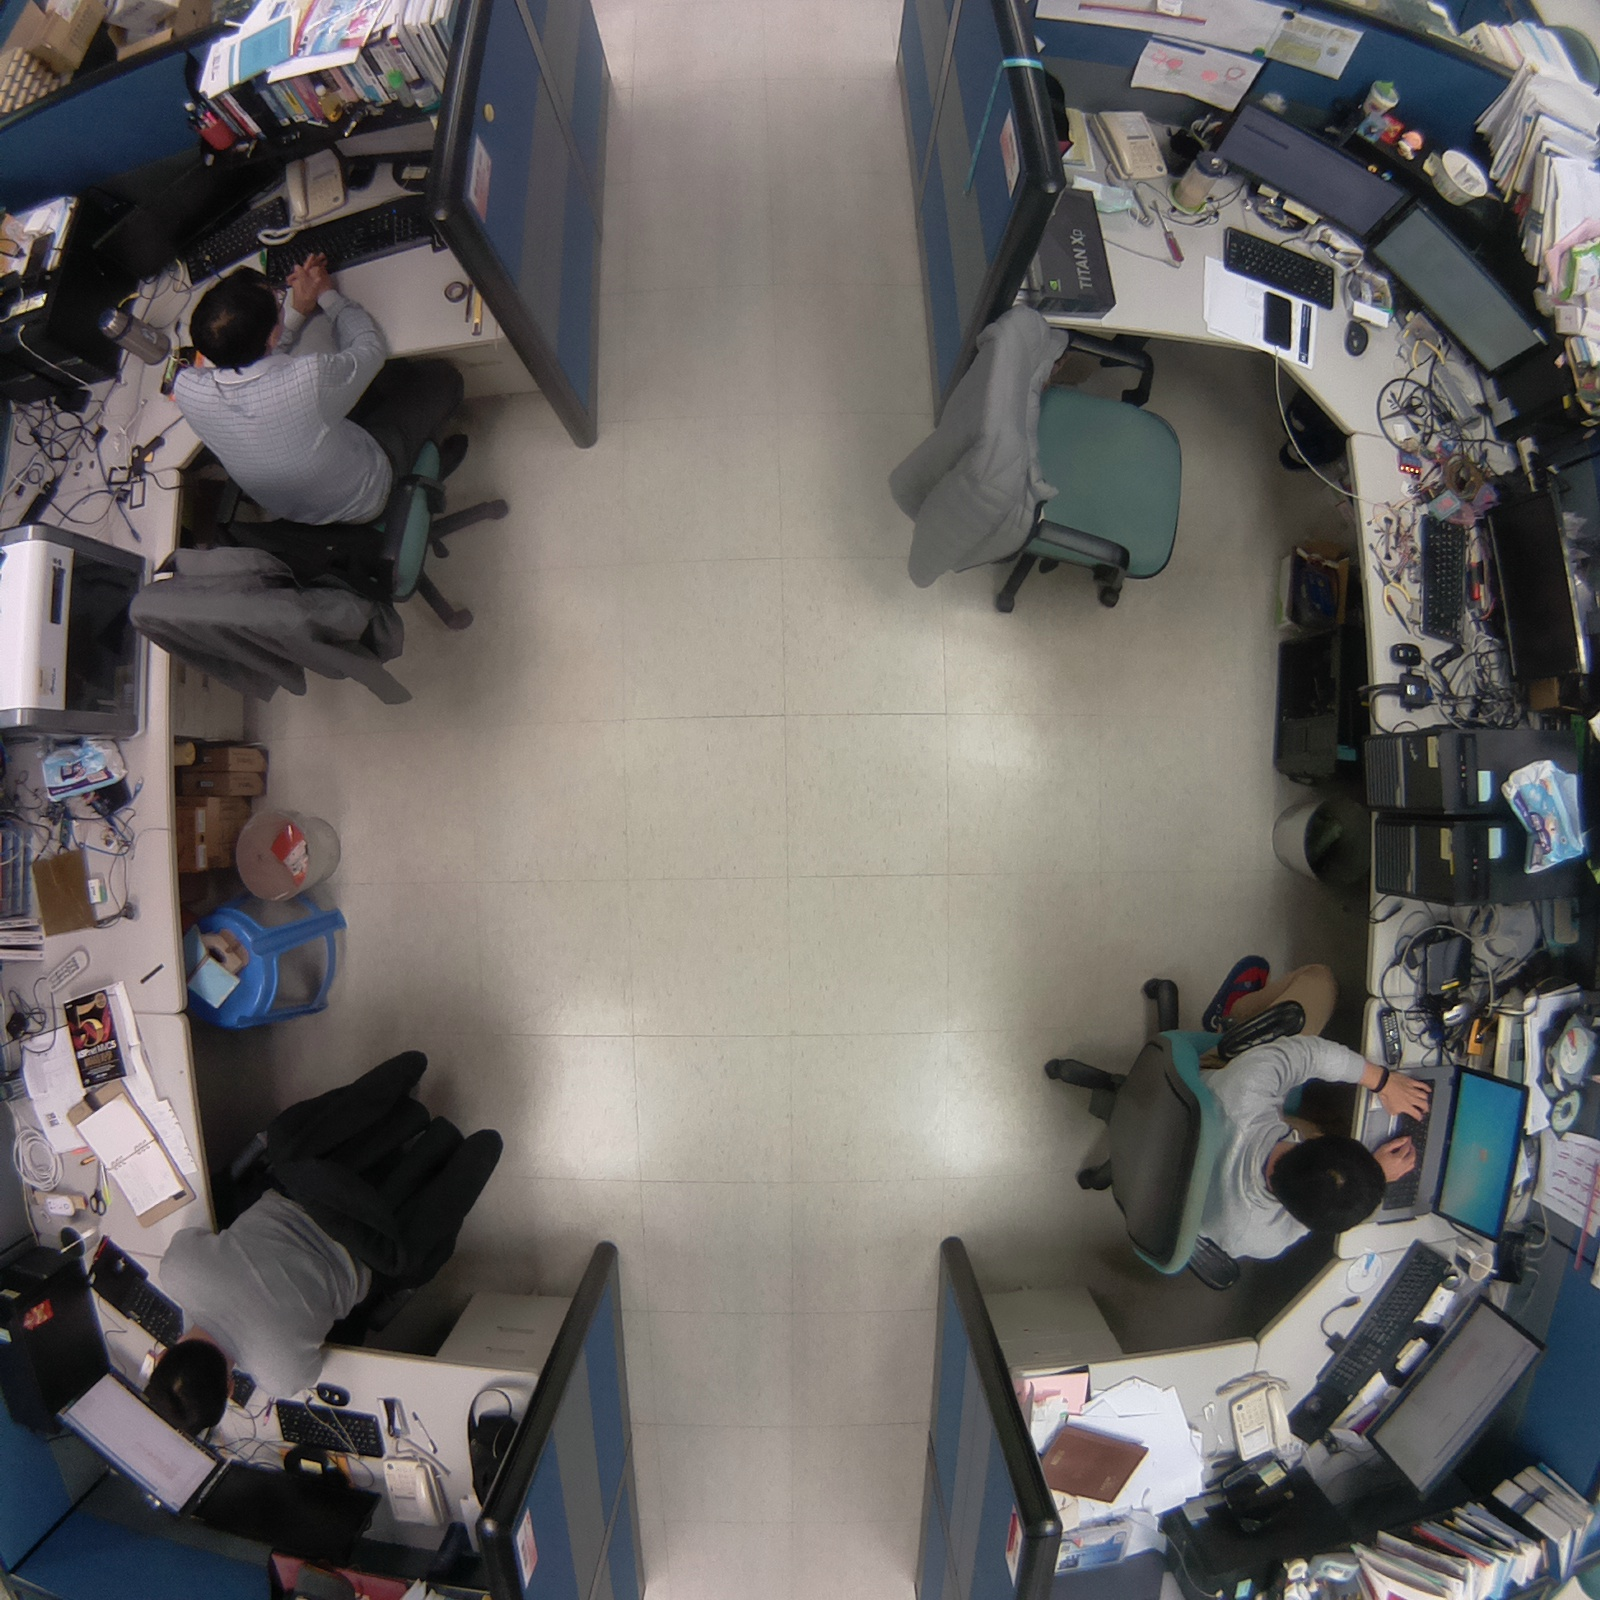chair: (873, 291, 1196, 637)
head: (1270, 1127, 1391, 1242), (189, 257, 287, 372), (134, 1340, 238, 1444)
sitting: (117, 255, 527, 709), (142, 1037, 514, 1440), (1035, 940, 1414, 1286)
